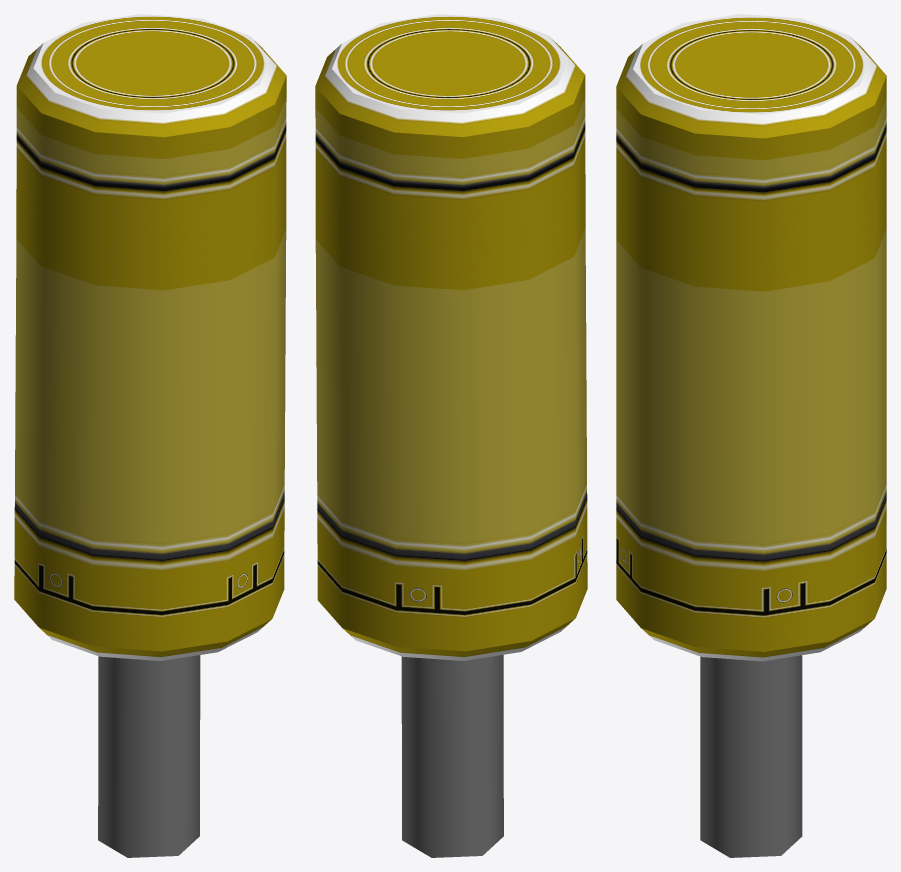
Rendered from TR_antenna.fbx.
3 views of the same model, side by side, from view 1: azimuth 30°, elevation 25°; view 2: azimuth 150°, elevation 25°; view 3: azimuth 270°, elevation 25° (orthographic).
Parts seen in each view (by area): view 1: TR_antennaA; view 2: TR_antennaA; view 3: TR_antennaA.
Boxes of the visible parts, left/top/right/bottom form: TR_antennaA: left=14, top=14, right=286, bottom=857; TR_antennaA: left=315, top=14, right=587, bottom=857; TR_antennaA: left=616, top=14, right=886, bottom=857.
Bounding box in the file's own units: 7.63 × 23.92 × 7.56.
